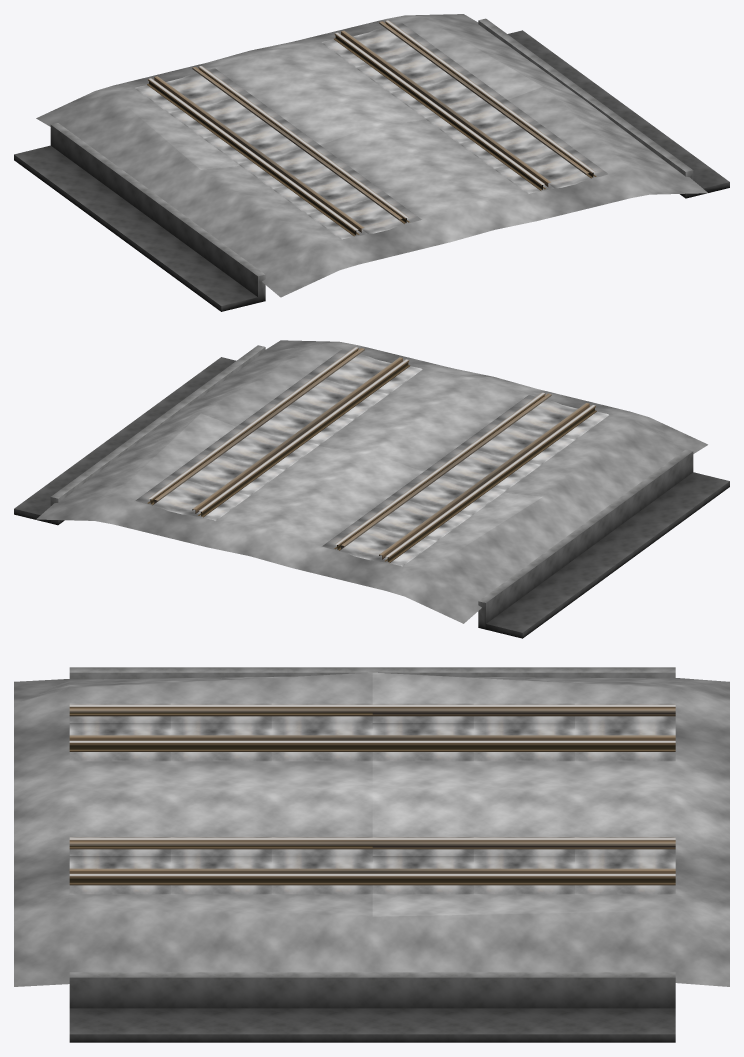
Rendered from NK_2RAIL_25.glb.
3 renders of one model, top to bottom at view 1: azimuth 30°, elevation 25°; view 2: azimuth 150°, elevation 25°; view 3: azimuth 270°, elevation 25°, orthographic. The views are drawn at different scales.
Parts seen in each view (by area): view 1: Jari_All2, R000_RG_R2, R000_RG_L2; view 2: Jari_All2, R000_RG_R2, R000_RG_L2; view 3: Jari_All2, R000_RG_R2, R000_RG_L2.
Boxes of the visible parts, x1,y1,x2,y2 form: Jari_All2: [14, 14, 729, 311]; R000_RG_R2: [154, 30, 550, 232]; R000_RG_L2: [192, 21, 589, 220]; Jari_All2: [14, 340, 729, 638]; R000_RG_R2: [192, 357, 589, 559]; R000_RG_L2: [154, 348, 551, 549]; Jari_All2: [14, 667, 729, 1042]; R000_RG_R2: [69, 708, 675, 847]; R000_RG_L2: [69, 735, 675, 873].
Bounding box in the file's own units: 35.42 × 3.26 × 29.53.
Materials: 7 (6 with a texture image).
